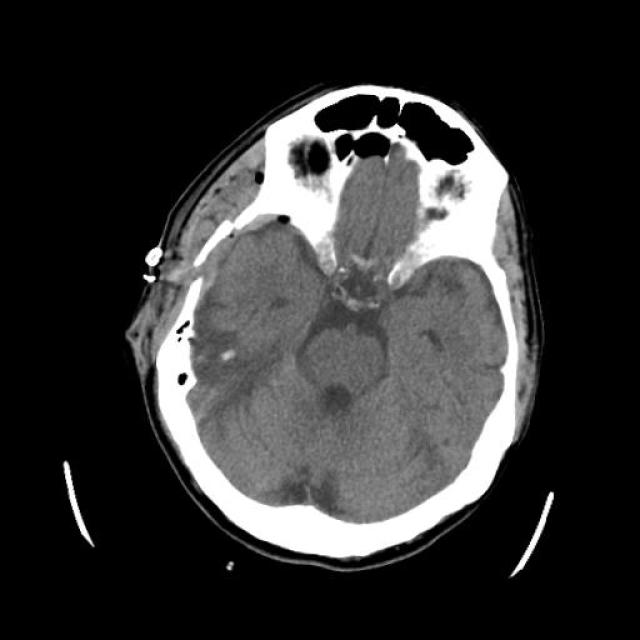Subdural: (164, 200, 290, 330)
